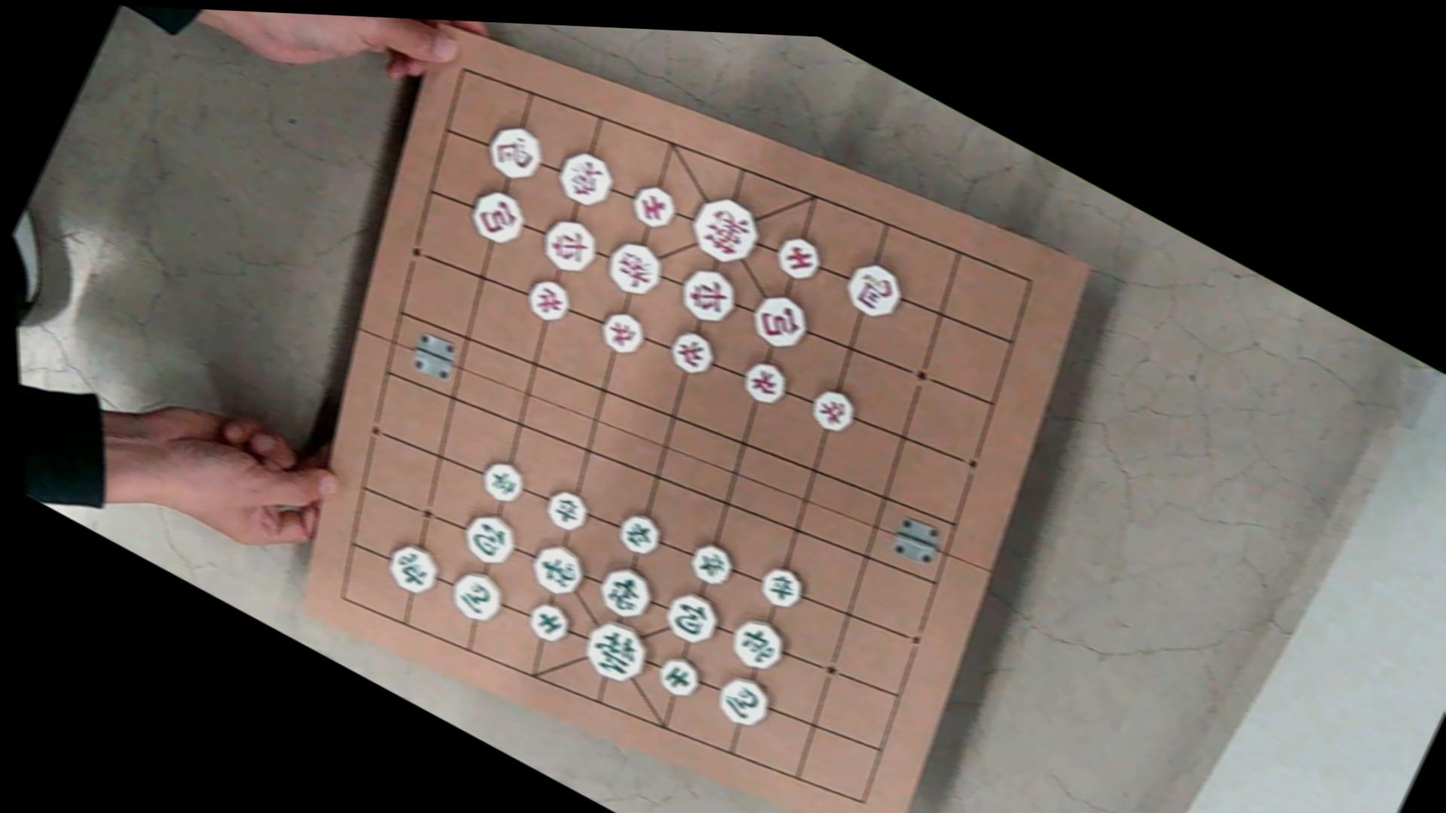cha_green: (722, 609, 792, 677), (380, 535, 446, 598)
cha_red: (671, 260, 743, 330), (532, 209, 603, 279)
jol_green: (753, 559, 810, 614), (611, 505, 667, 559), (473, 454, 528, 507), (538, 483, 593, 535), (684, 537, 738, 589)
jol_red: (736, 353, 793, 410), (804, 382, 862, 437), (662, 324, 720, 379), (519, 271, 575, 327), (593, 304, 650, 359)
ma_green: (441, 562, 509, 628), (709, 668, 776, 733)
ma_red: (837, 254, 910, 325), (478, 117, 550, 187)
po_green: (657, 583, 726, 650), (454, 504, 523, 571)
po_red: (743, 285, 816, 355), (462, 181, 531, 249)
sa_green: (650, 648, 706, 702), (520, 595, 575, 647)
sa_red: (769, 230, 826, 285), (624, 178, 681, 233)
sang_green: (523, 536, 592, 602), (591, 559, 659, 625)
sang_red: (597, 233, 670, 303), (548, 143, 620, 212)
wang_green: (573, 611, 657, 690)
wang_red: (680, 186, 767, 272)
